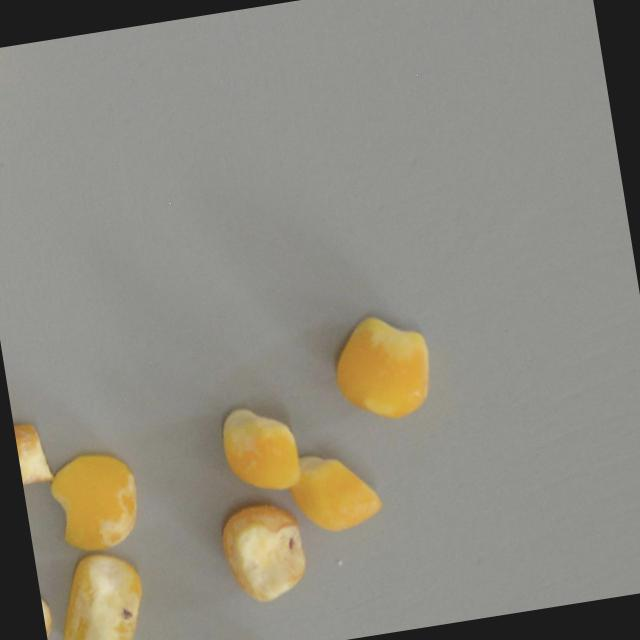estandar: (278, 443, 389, 540), (214, 400, 312, 496)
no_canjicado: (323, 305, 442, 431)
pelicula: (36, 444, 163, 559), (12, 416, 56, 498)
punto_negro: (205, 495, 316, 617), (46, 543, 153, 640)
